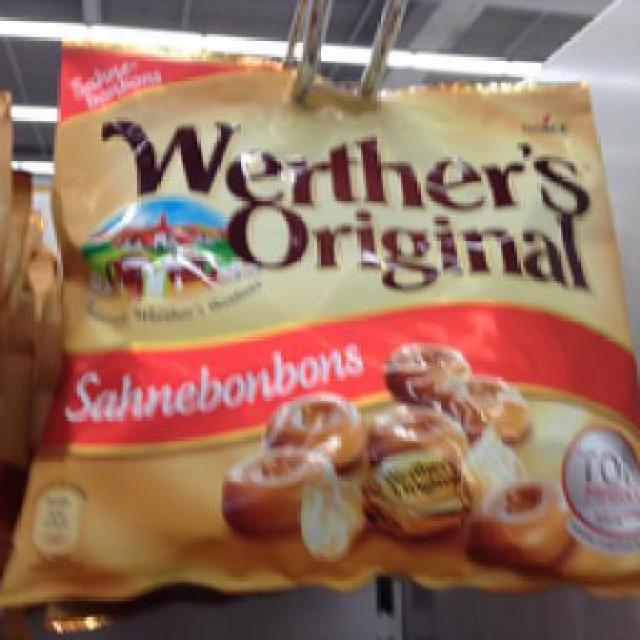Candy: (42, 31, 628, 592)
